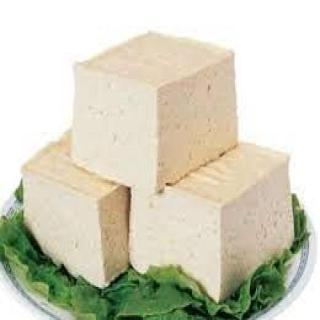Tahu: (15, 26, 313, 318)
